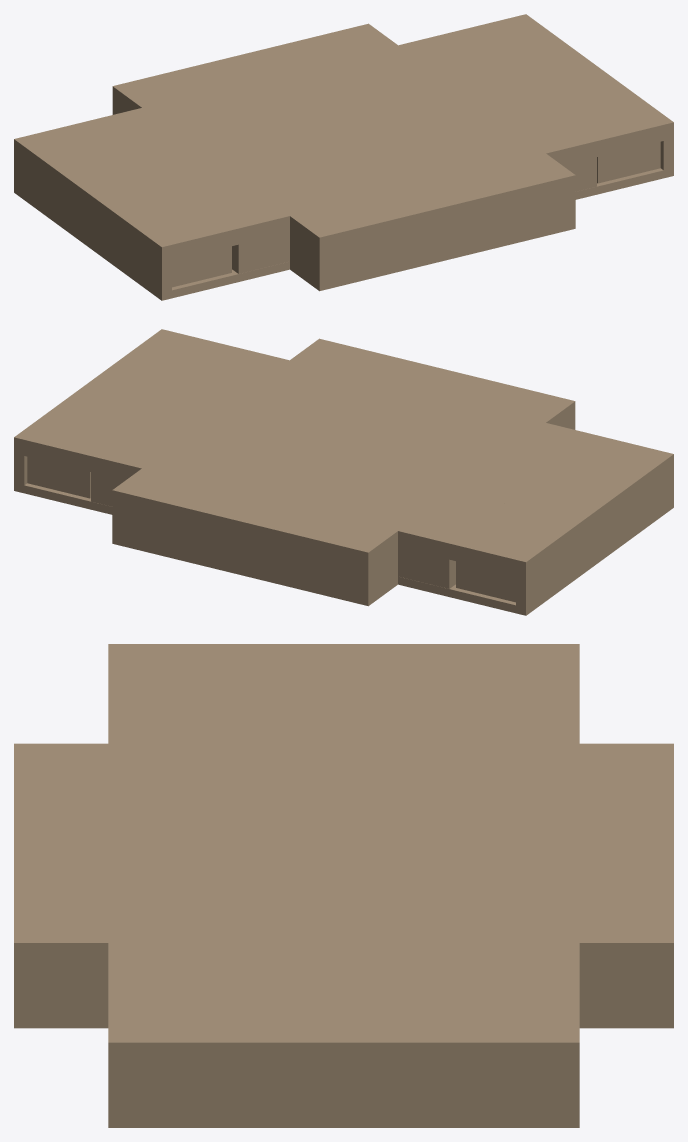
The model's file is bridgeIntersection.fbx.
The picture shows the model from 3 angles, top to bottom: view 1: azimuth 30°, elevation 25°; view 2: azimuth 150°, elevation 25°; view 3: azimuth 270°, elevation 25°; orthographic projection. The views are drawn at different scales.
Visible parts, largest first — view 1: Cube, Cube.001; view 2: Cube, Cube.001; view 3: Cube, Cube.001.
Part boxes in pixels (x1=…): Cube: x1=14, y1=14, x2=673, y2=300; Cube.001: x1=112, y1=23, x2=596, y2=291; Cube: x1=14, y1=329, x2=673, y2=615; Cube.001: x1=91, y1=338, x2=596, y2=606; Cube: x1=108, y1=644, x2=579, y2=1127; Cube.001: x1=14, y1=703, x2=673, y2=1028.
Bounding box in the file's own units: 1000 × 100 × 700.
